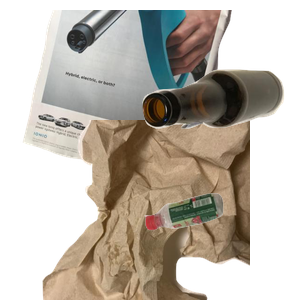glass: (140, 67, 300, 188)
paper: (20, 10, 244, 190)
plastic: (142, 191, 300, 300)
trash: (40, 120, 280, 300)
